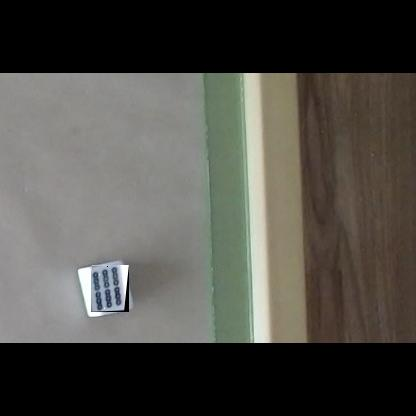6s: (91, 265, 129, 312)
